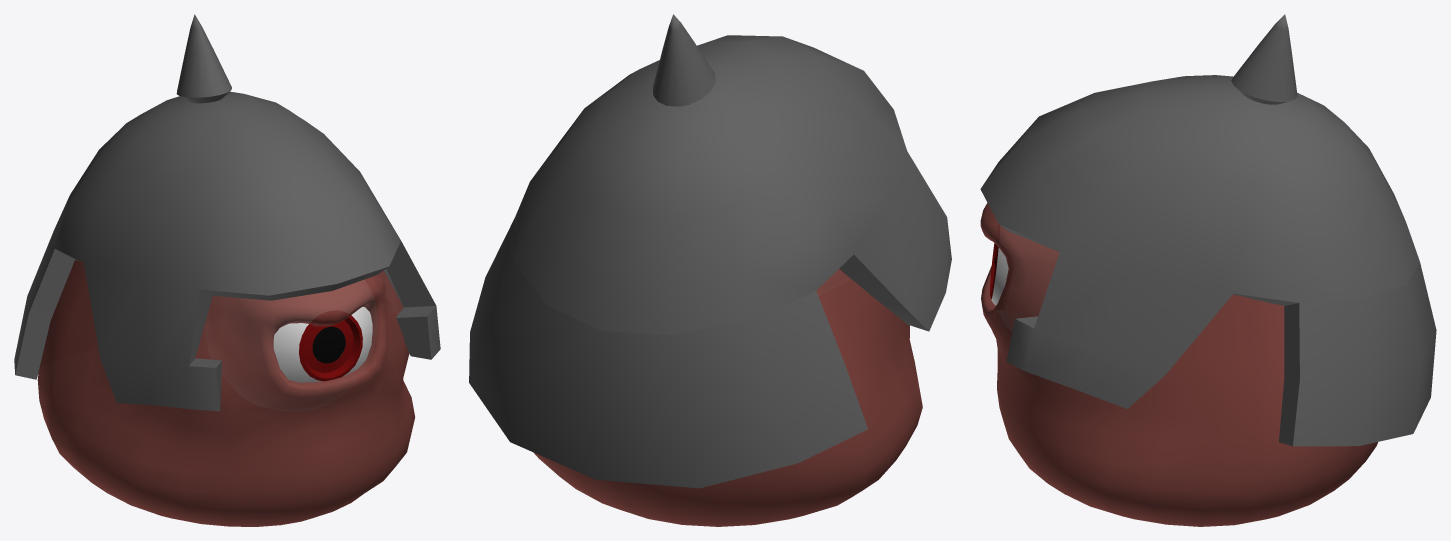
File: SlimeWarrior.fbx
3 renders of one model, left to right at view 1: azimuth 30°, elevation 25°; view 2: azimuth 150°, elevation 25°; view 3: azimuth 270°, elevation 25°, orthographic. The views are drawn at different scales.
Parts seen in each view (by area): view 1: helmet, body, eye, iris, pupil; view 2: helmet, body; view 3: helmet, body, eye.
Boxes of the visible parts, left/top/right/bottom form: helmet: left=14, top=14, right=440, bottom=411; body: left=37, top=260, right=415, bottom=526; eye: left=273, top=306, right=372, bottom=382; iris: left=299, top=315, right=362, bottom=381; pupil: left=312, top=326, right=345, bottom=363; helmet: left=469, top=14, right=951, bottom=488; body: left=533, top=269, right=922, bottom=526; helmet: left=980, top=14, right=1436, bottom=446; body: left=980, top=203, right=1377, bottom=526; eye: left=991, top=248, right=1008, bottom=305.
Size of the model in its own units: 0.4893 by 0.5903 by 0.5172.
